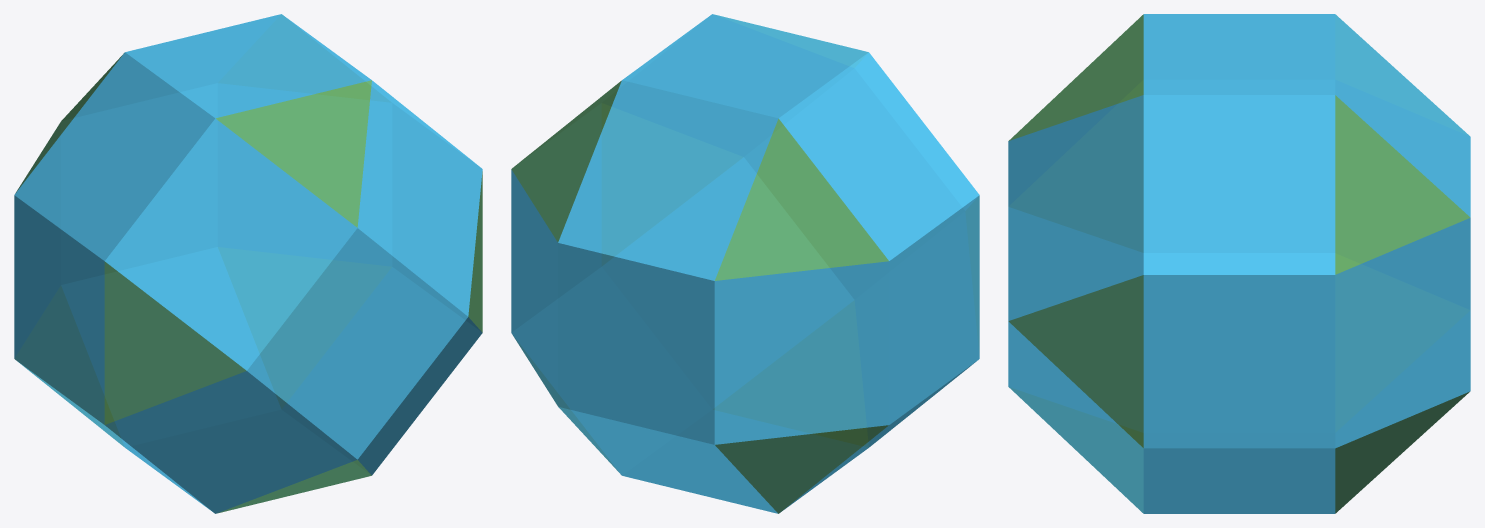
Rendered from j37_elongated_square_gyrobicupola.obj.
3 renders of one model, left to right at view 1: azimuth 30°, elevation 25°; view 2: azimuth 150°, elevation 25°; view 3: azimuth 270°, elevation 25°, orthographic. The views are drawn at different scales.
Size of the model in its own units: 1.73 by 1.73 by 1.73.
